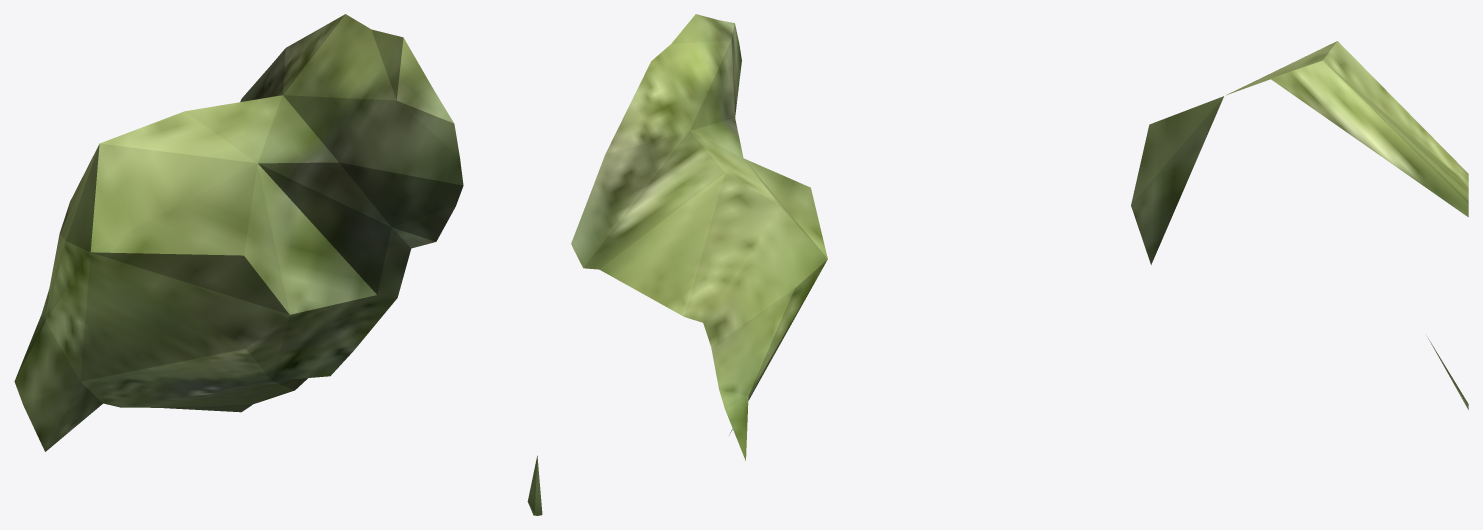
The picture shows the model from 3 angles, left to right: view 1: azimuth 30°, elevation 25°; view 2: azimuth 150°, elevation 25°; view 3: azimuth 270°, elevation 25°; orthographic projection. The views are drawn at different scales.
Size of the model in its own units: 2.29 by 4.46 by 4.92.
Materials: 1 (1 with a texture image).
